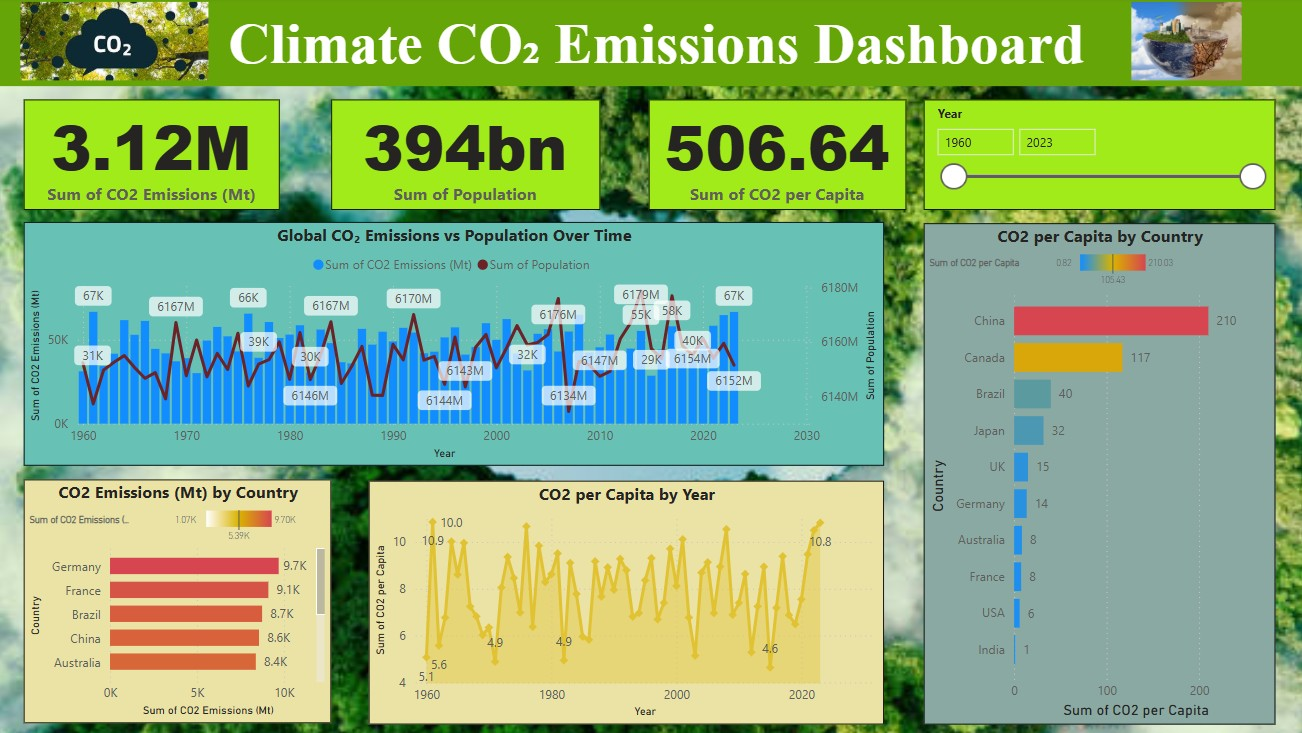

Layout of this report page (visuals, bound fields, positions):
{"tool":"powerbi","page":{"name":"Page 1","canvas":[1280,720],"ordinal":0},"visuals":[{"type":"textbox","box":[0,0,1280.3,86.8],"z":0},{"type":"card","fields":{"Values":["Sum(global_trend_summary.CO2 Emissions (Mt))"]},"box":[28.1,100.3,250.7,107.6],"z":1000},{"type":"card","fields":{"Values":["Sum(global_trend_summary.CO2 per Capita)"]},"box":[639.5,100.3,251.9,107.6],"z":2000},{"type":"card","fields":{"Values":["Sum(global_trend_summary.Population)"]},"box":[328.9,100.3,262.9,107.6],"z":3000},{"type":"clusteredBarChart","title":"CO2 Emissions (Mt) by Country","fields":{"Category":["countrywise_emissions_latest_year.Country"],"Y":["Sum(countrywise_emissions_latest_year.CO2 Emissions (Mt))"]},"box":[28.1,472,300.8,238.5],"z":4000},{"type":"lineClusteredColumnComboChart","title":"Global CO₂ Emissions vs Population Over Time","fields":{"Category":["global_trend_summary.Year"],"Y":["Sum(global_trend_summary.CO2 Emissions (Mt))"],"Y2":["Sum(global_trend_summary.Population)"]},"box":[28.1,220.1,841.3,238.5],"z":5000},{"type":"lineChart","title":"CO2 per Capita by Year","fields":{"Y":["Sum(global_trend_summary.CO2 per Capita)"],"Category":["global_trend_summary.Year"]},"box":[365.6,473.2,503.8,238.5],"z":6000},{"type":"clusteredBarChart","title":"CO2 per Capita by Country","fields":{"Category":["countrywise_emissions_latest_year.Country"],"Y":["Sum(countrywise_emissions_latest_year.CO2 per Capita)"]},"box":[908.6,221.3,343.6,490.4],"z":7000},{"type":"slicer","fields":{"Values":["global_trend_summary.Year"]},"box":[908.6,100.3,343.6,107.6],"z":7001},{"type":"image","box":[0,0,233.6,86.8],"z":7002},{"type":"image","box":[1051.6,0,228.7,86.8],"z":7003}]}

Visuals, with their boxes in screenshot pixels (x1, y1, x2, y2), scaled from the page's 1280x720 canvas onto the 1302x733 screenshot:
textbox: rect(0, 0, 1301, 88)
card - Sum(global_trend_summary.CO2 Emissions (Mt)): rect(29, 102, 284, 212)
card - Sum(global_trend_summary.CO2 per Capita): rect(650, 102, 907, 212)
card - Sum(global_trend_summary.Population): rect(335, 102, 602, 212)
"CO2 Emissions (Mt) by Country" clusteredBarChart: rect(29, 481, 335, 723)
"Global CO₂ Emissions vs Population Over Time" lineClusteredColumnComboChart: rect(29, 224, 884, 467)
"CO2 per Capita by Year" lineChart: rect(372, 482, 884, 725)
"CO2 per Capita by Country" clusteredBarChart: rect(924, 225, 1274, 725)
slicer - global_trend_summary.Year: rect(924, 102, 1274, 212)
image: rect(0, 0, 238, 88)
image: rect(1070, 0, 1301, 88)
